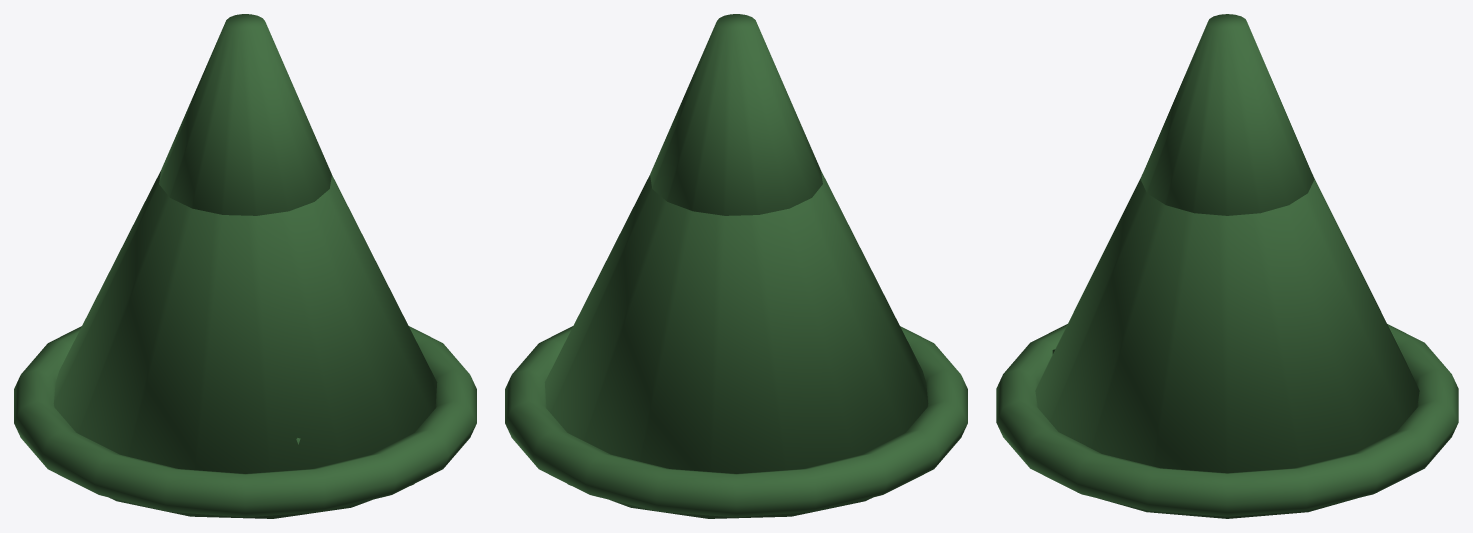
The model's file is shrub_10.glb.
3 views of the same model, side by side, from view 1: azimuth 30°, elevation 25°; view 2: azimuth 150°, elevation 25°; view 3: azimuth 270°, elevation 25° (orthographic).
Visible parts, largest first — view 1: Tint; view 2: Tint; view 3: Tint.
Boxes of the visible parts, x1,y1,x2,y2 form: Tint: (14, 14, 476, 518); Tint: (505, 14, 967, 518); Tint: (996, 14, 1458, 518).
Bounding box in the file's own units: 0.7309 × 0.7 × 0.7198.
